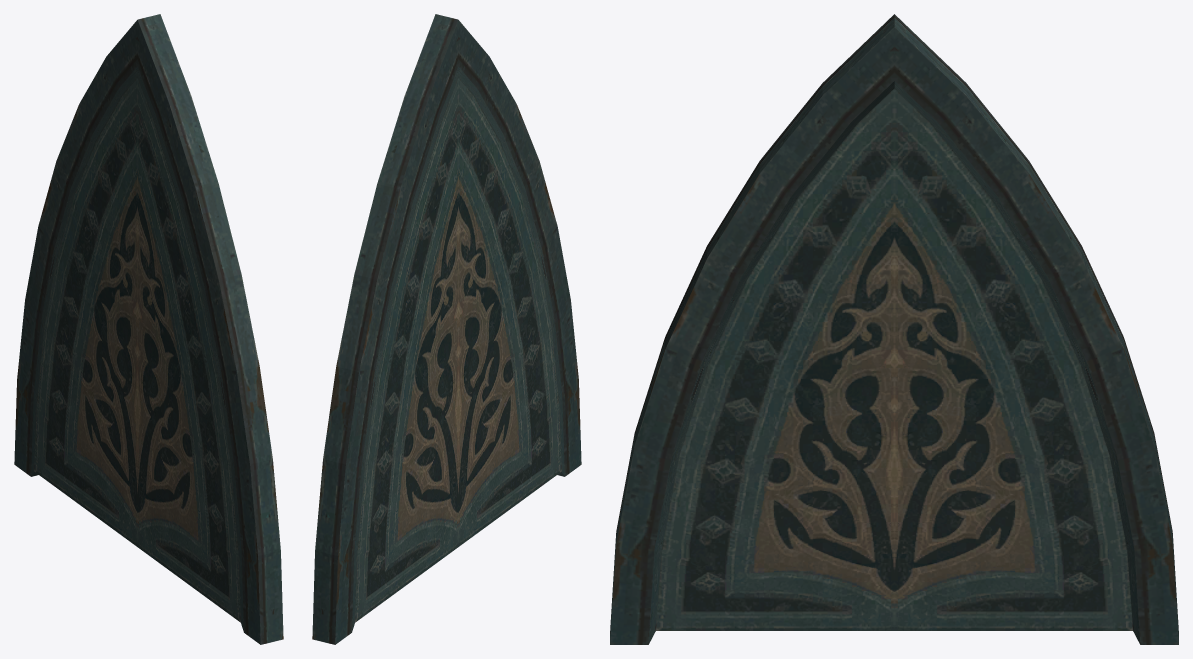
Rendered from bg_rad_kamen_deco04_sm_jjh.obj.
The picture shows the model from 3 angles, left to right: view 1: azimuth 30°, elevation 25°; view 2: azimuth 150°, elevation 25°; view 3: azimuth 270°, elevation 25°; orthographic projection. The views are drawn at different scales.
Parts seen in each view (by area): view 1: bg_rad_kamen_deco04_sm_jjh_0, bg_rad_kamen_deco04_sm_jjh_1; view 2: bg_rad_kamen_deco04_sm_jjh_0, bg_rad_kamen_deco04_sm_jjh_1; view 3: bg_rad_kamen_deco04_sm_jjh_0, bg_rad_kamen_deco04_sm_jjh_1.
Boxes of the visible parts, bbox=[...] form: bg_rad_kamen_deco04_sm_jjh_0: bbox=[34, 77, 240, 622]; bg_rad_kamen_deco04_sm_jjh_1: bbox=[14, 14, 283, 644]; bg_rad_kamen_deco04_sm_jjh_0: bbox=[355, 77, 561, 622]; bg_rad_kamen_deco04_sm_jjh_1: bbox=[312, 14, 581, 644]; bg_rad_kamen_deco04_sm_jjh_0: bbox=[656, 88, 1132, 630]; bg_rad_kamen_deco04_sm_jjh_1: bbox=[610, 14, 1178, 644].
Size of the model in its own units: 0.0825 by 1.84 by 1.54.
Materials: 2 (2 with a texture image).
